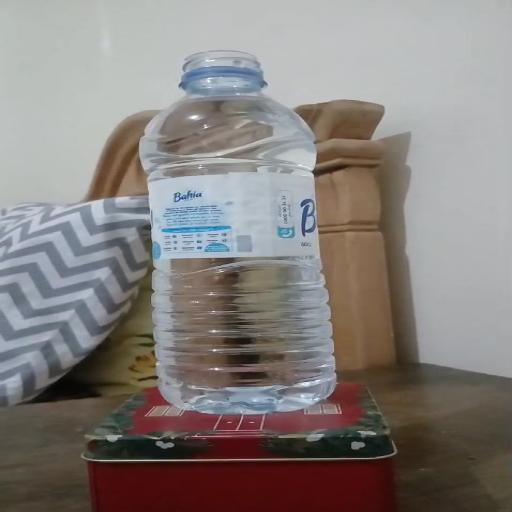bouteille non conformite: (120, 36, 310, 120)
